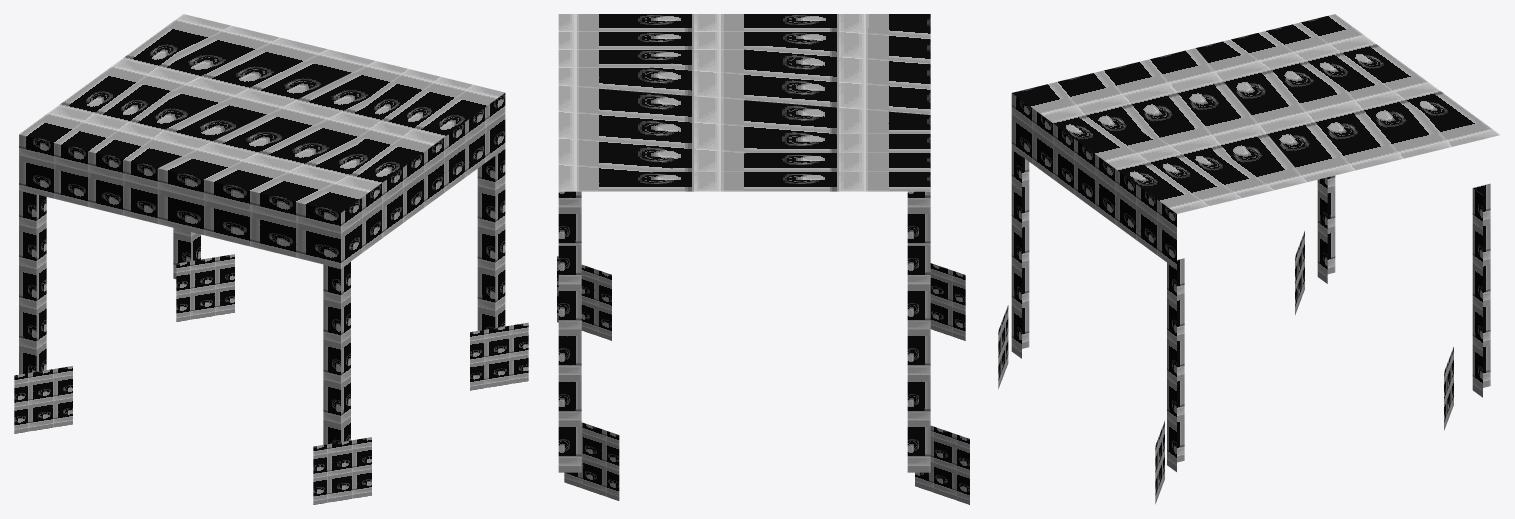
Rendered from 1120item591.gltf.
3 renders of one model, left to right at view 1: azimuth 30°, elevation 25°; view 2: azimuth 150°, elevation 25°; view 3: azimuth 270°, elevation 25°, orthographic. The views are drawn at different scales.
Parts seen in each view (by area): view 1: 1120item591; view 2: 1120item591; view 3: 1120item591.
Boxes of the visible parts, x1,y1,x2,y2 form: 1120item591: [14, 14, 528, 504]; 1120item591: [557, 14, 969, 504]; 1120item591: [998, 14, 1499, 503].
Size of the model in its own units: 1.42 by 0.8718 by 1.39.
Materials: 1 (1 with a texture image).
